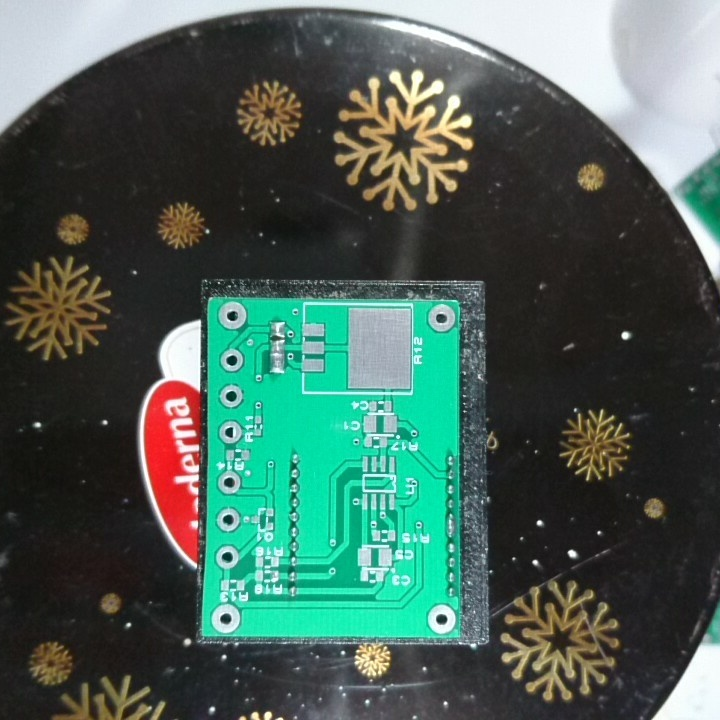F: (208, 601, 244, 635), (425, 601, 457, 636), (426, 303, 457, 335), (216, 300, 249, 330), (214, 503, 242, 535), (217, 347, 245, 374), (213, 543, 242, 569), (215, 468, 242, 495), (217, 383, 245, 409), (217, 419, 241, 445)
P: (268, 336, 286, 375), (443, 512, 458, 539)
